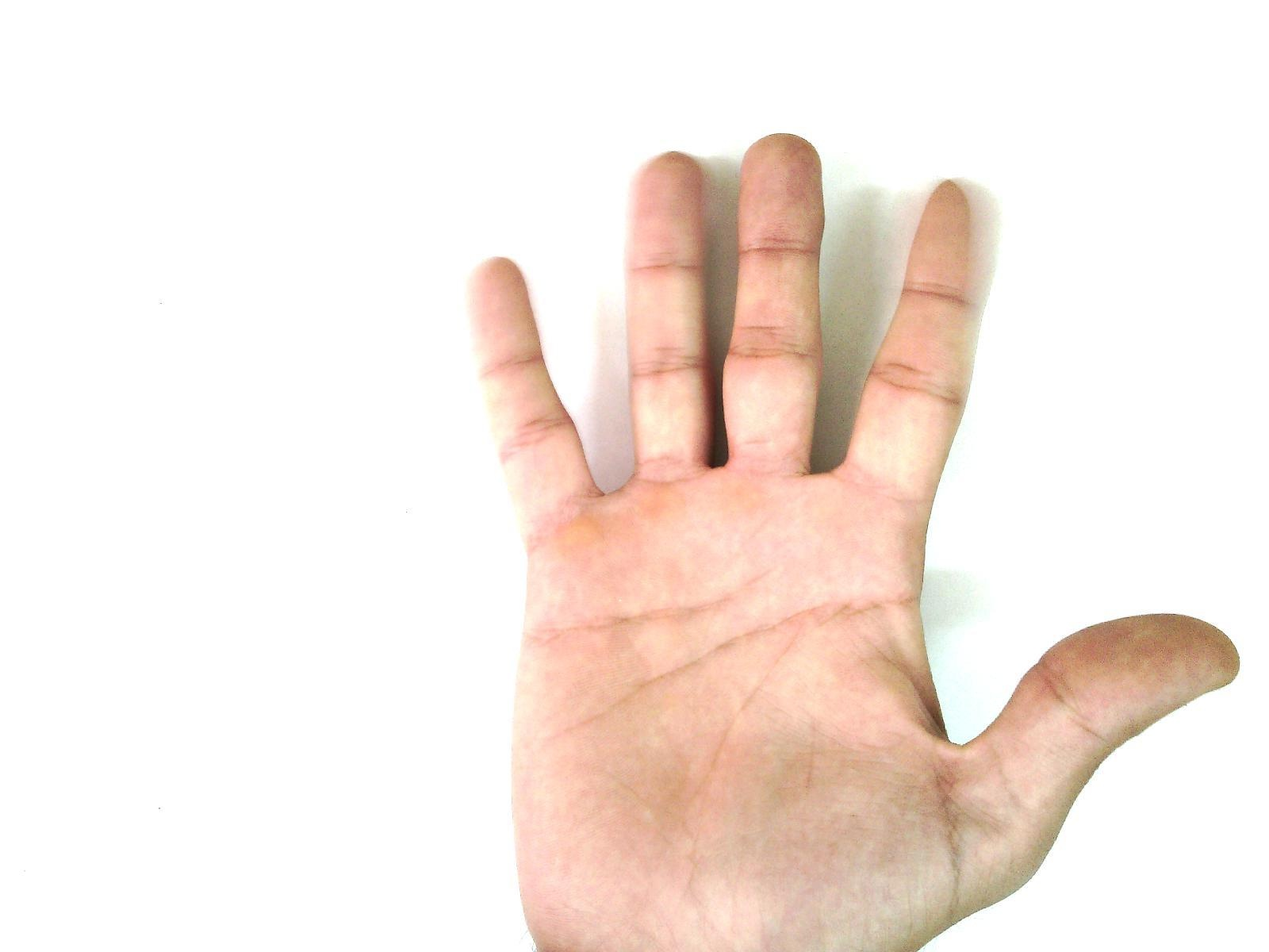open_palm: (462, 131, 1241, 951)
